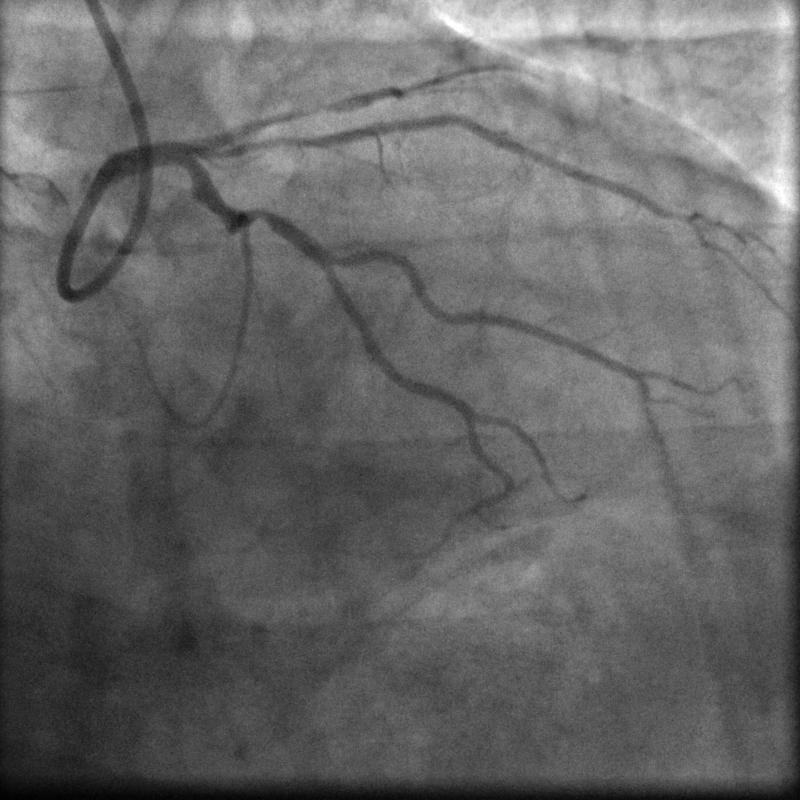Stenosis: (245, 204, 277, 225)
